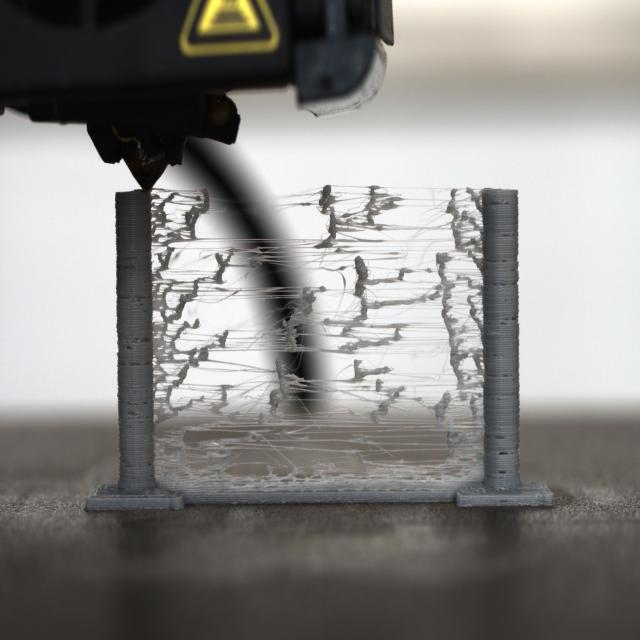Warping: (152, 187, 482, 491)
